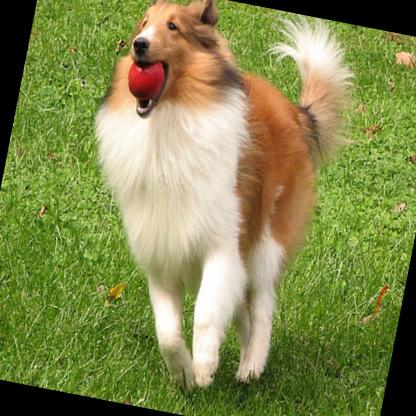Shetland_sheepdog: (43, 0, 378, 416)
